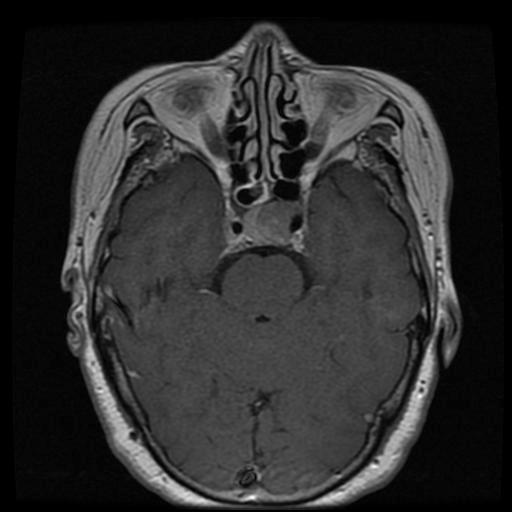Tumour-Pituitary: (222, 199, 314, 259)
